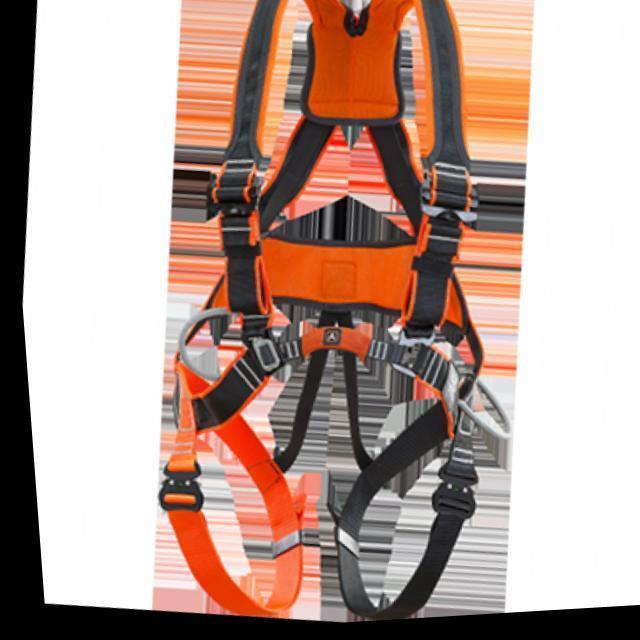Harness: (160, 0, 484, 619)
